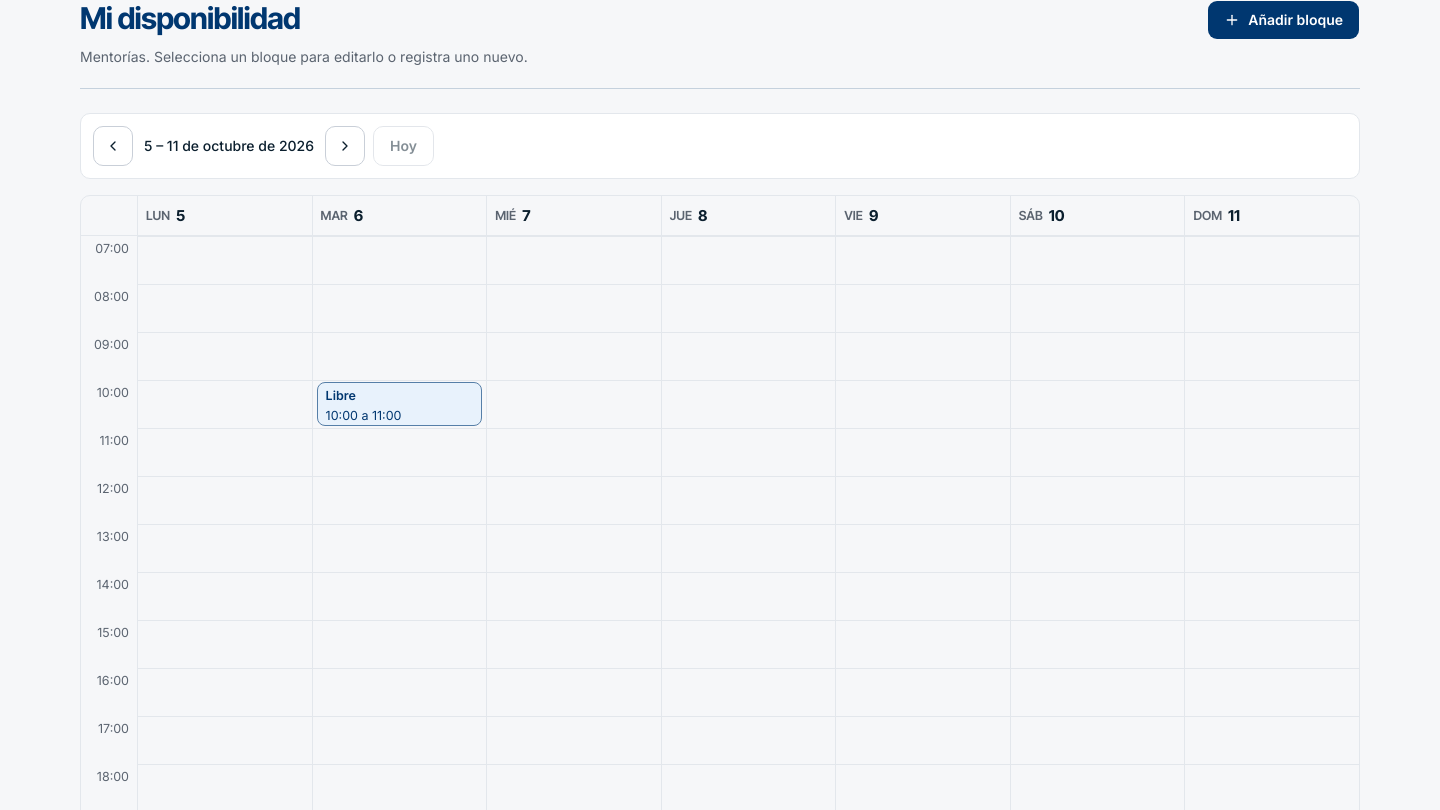
Test case: MentorAvailabilityView › cancelar la edición vuelve a la grilla sin otro formulario
Click the button with aria-label "libre, 10:00 a 11:00".
click(399, 404)  # box [317,382,482,426]
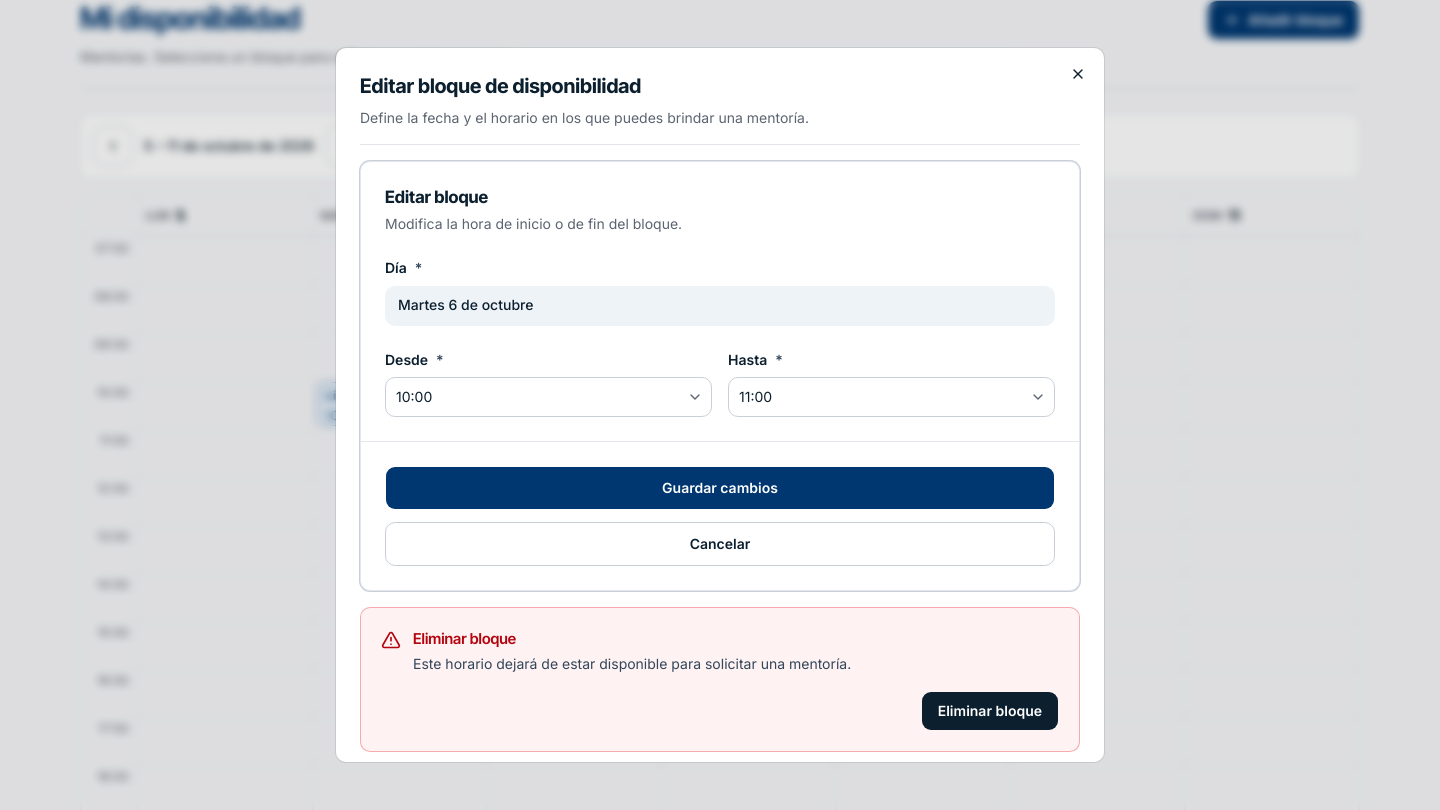
Expected: the text "Editar bloque" is shown, [385,187,488,207]
Click the button "Cancelar".
click(720, 544)  # box [385,522,1055,566]
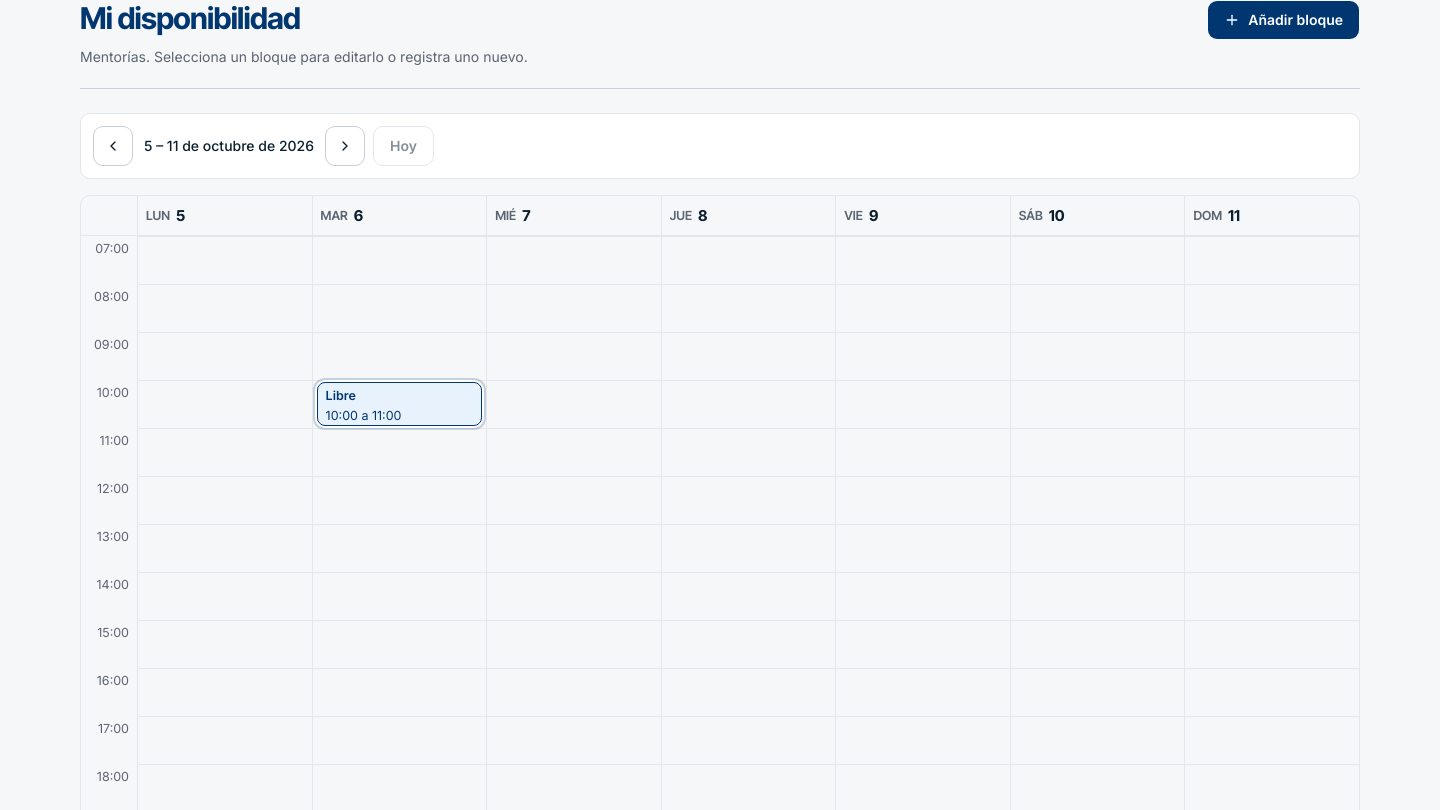
Expected: the button "Añadir bloque" is enabled, [1207,0,1360,40]
Expected: the heading "Editar bloque" is gone
Expected: the dialog is gone
